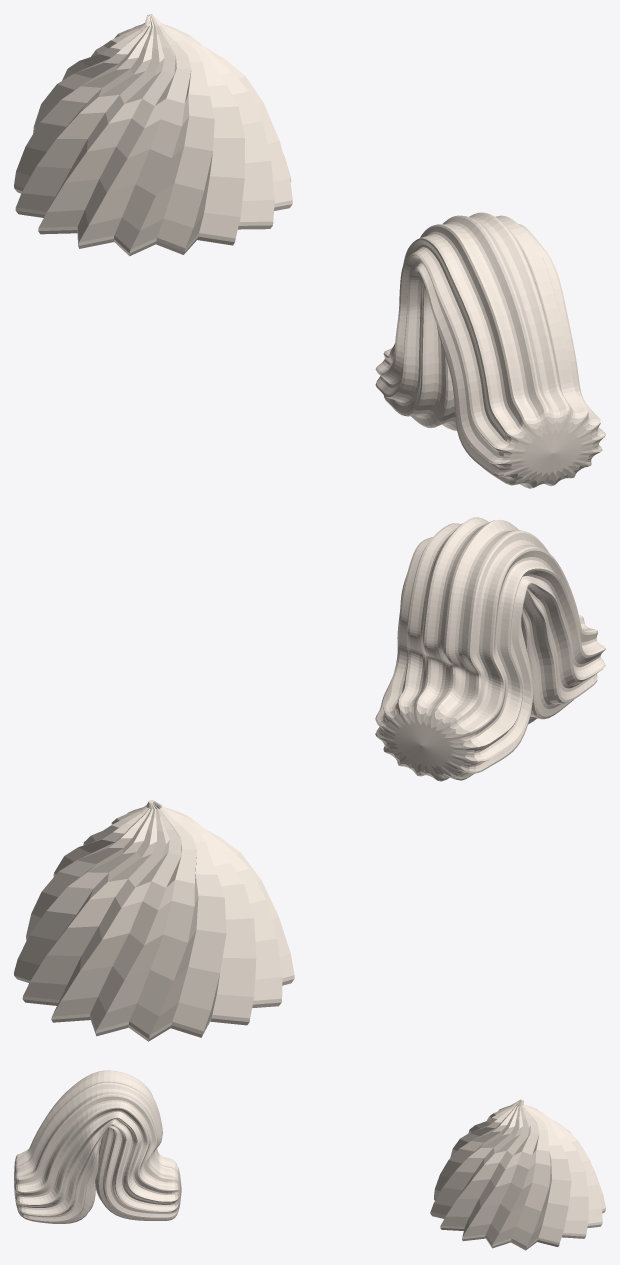
File: cream.gltf
The picture shows the model from 3 angles, top to bottom: view 1: azimuth 30°, elevation 25°; view 2: azimuth 150°, elevation 25°; view 3: azimuth 270°, elevation 25°; orthographic projection. The views are drawn at different scales.
Visible parts, largest first — view 1: Cylinder, Cylinder.001; view 2: Cylinder, Cylinder.001; view 3: Cylinder.001, Cylinder.
Boxes of the visible parts, <box> form: Cylinder: <box>14,14,292,256</box>; Cylinder.001: <box>375,212,605,488</box>; Cylinder: <box>14,800,294,1041</box>; Cylinder.001: <box>375,517,605,781</box>; Cylinder.001: <box>14,1070,181,1223</box>; Cylinder: <box>430,1099,605,1250</box>.
Size of the model in its own units: 0.7837 by 0.6977 by 2.64.
